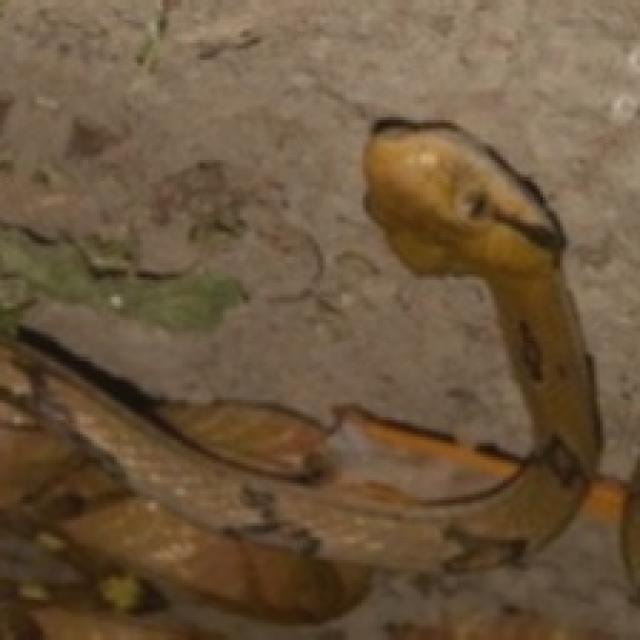dog-toothed cat snake: (0, 120, 637, 637)
